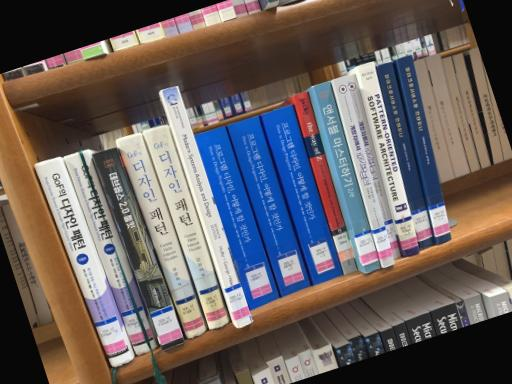book-spine: (159, 86, 253, 327), (33, 156, 135, 366), (62, 148, 159, 355), (91, 147, 186, 351), (115, 131, 206, 338), (143, 124, 229, 330), (194, 125, 280, 310), (226, 114, 312, 297), (260, 104, 344, 285), (313, 80, 381, 274), (356, 61, 419, 256), (332, 75, 395, 267), (293, 91, 356, 275), (375, 60, 433, 250), (395, 54, 451, 245), (346, 73, 403, 258)
